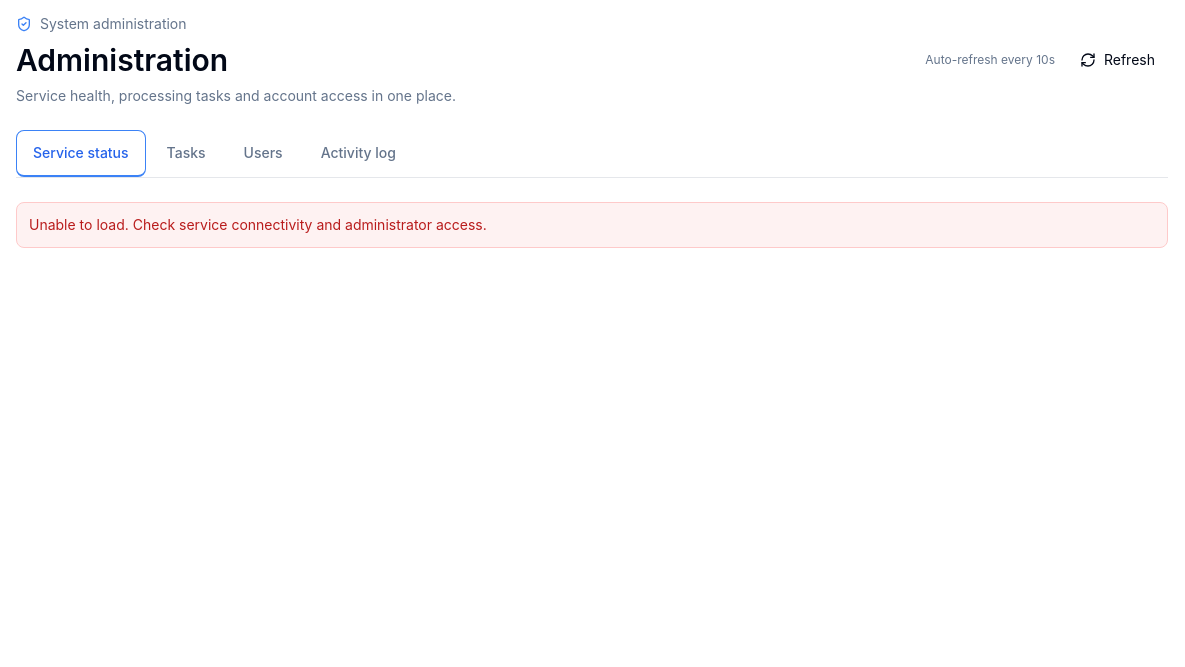
it: shows service failure honestly and allows retry
Check: the message "Unable to load. Check service connectivity and administrator access." is shown, box [16,202,1168,248]
Click the button "Refresh" at [1118, 60], box [1067,41,1168,79]
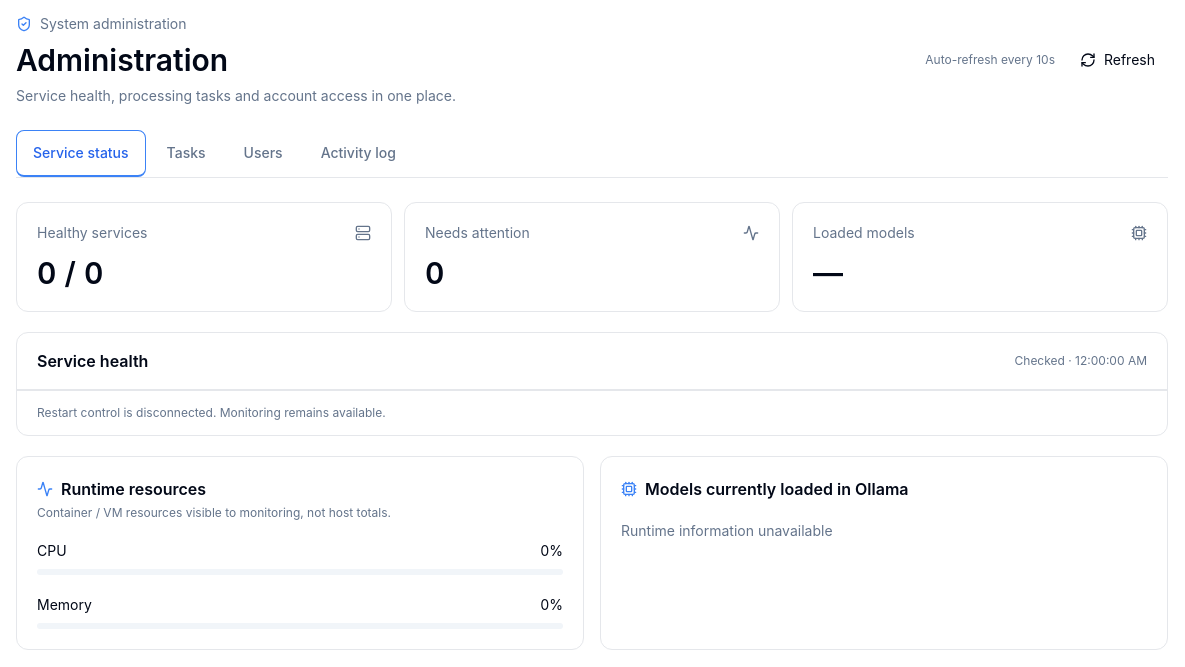
Check: the text "Runtime information unavailable" is shown, box [621,522,832,538]
